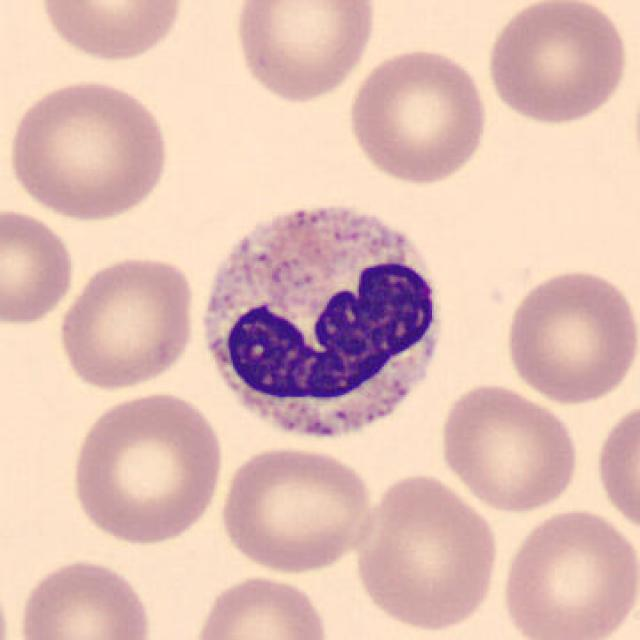Neutrophil: (188, 188, 457, 458)
RBC: (349, 469, 503, 635), (66, 388, 226, 546), (4, 74, 172, 224), (217, 441, 377, 576), (343, 44, 493, 187), (53, 250, 199, 392), (436, 379, 582, 515), (502, 263, 638, 407), (496, 504, 638, 640), (482, 0, 631, 127), (230, 0, 380, 106), (14, 553, 156, 640), (187, 571, 334, 640), (35, 0, 188, 65), (0, 204, 78, 328), (592, 395, 638, 538)
